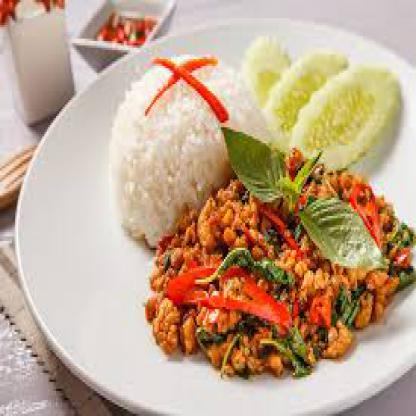Basil Rice: (111, 50, 414, 409)
